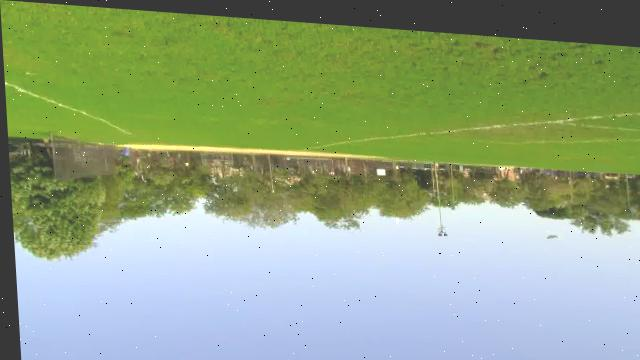drone: (540, 222, 558, 239)
